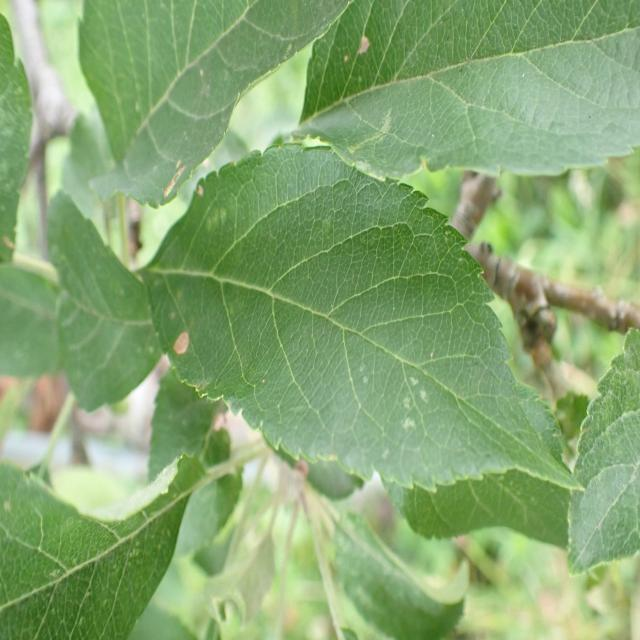Black Rot: (158, 146, 197, 208), (156, 327, 210, 364), (350, 27, 378, 79)
